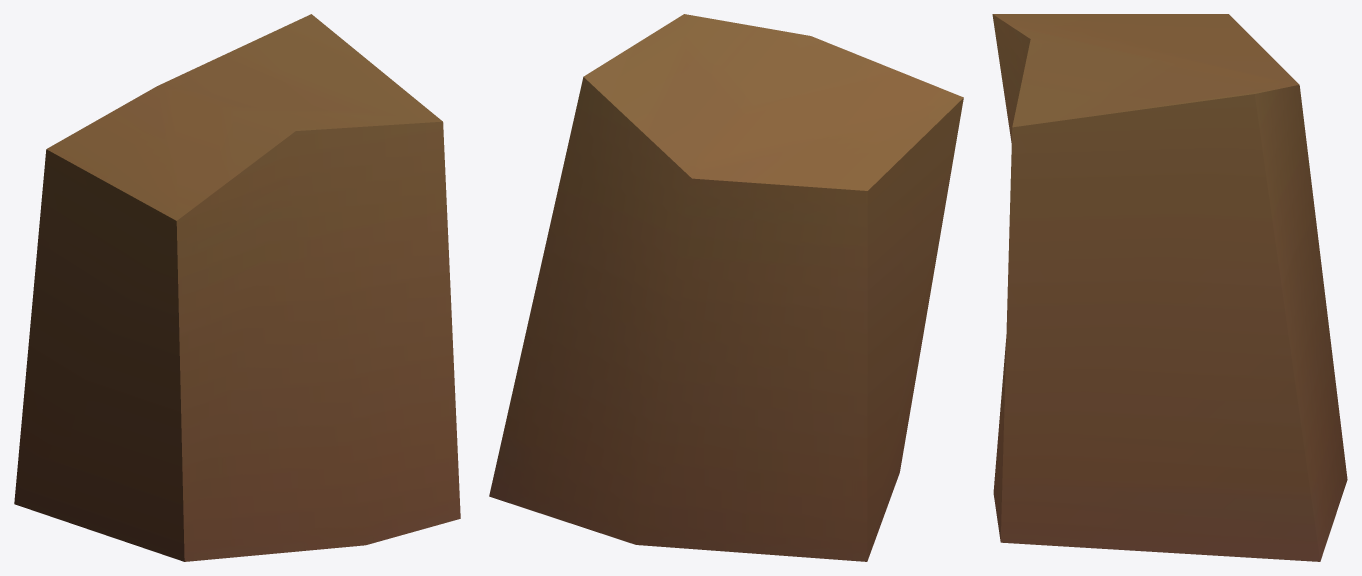
The model's file is klippvagg.glb.
3 views of the same model, side by side, from view 1: azimuth 30°, elevation 25°; view 2: azimuth 150°, elevation 25°; view 3: azimuth 270°, elevation 25° (orthographic). The views are drawn at different scales.
Parts seen in each view (by area): view 1: Cliff001; view 2: Cliff001; view 3: Cliff001.
Boxes of the visible parts, left/top/right/bottom form: Cliff001: left=14, top=14, right=460, bottom=561; Cliff001: left=489, top=14, right=963, bottom=561; Cliff001: left=992, top=14, right=1347, bottom=561.
Size of the model in its own units: 619 by 695 by 514.
Materials: 1 (1 with a texture image).
